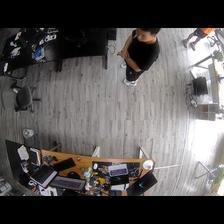normal: (117, 27, 163, 87), (183, 28, 215, 50)
